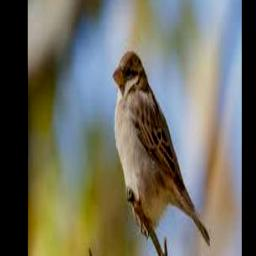Sparrow: (112, 49, 210, 250)
